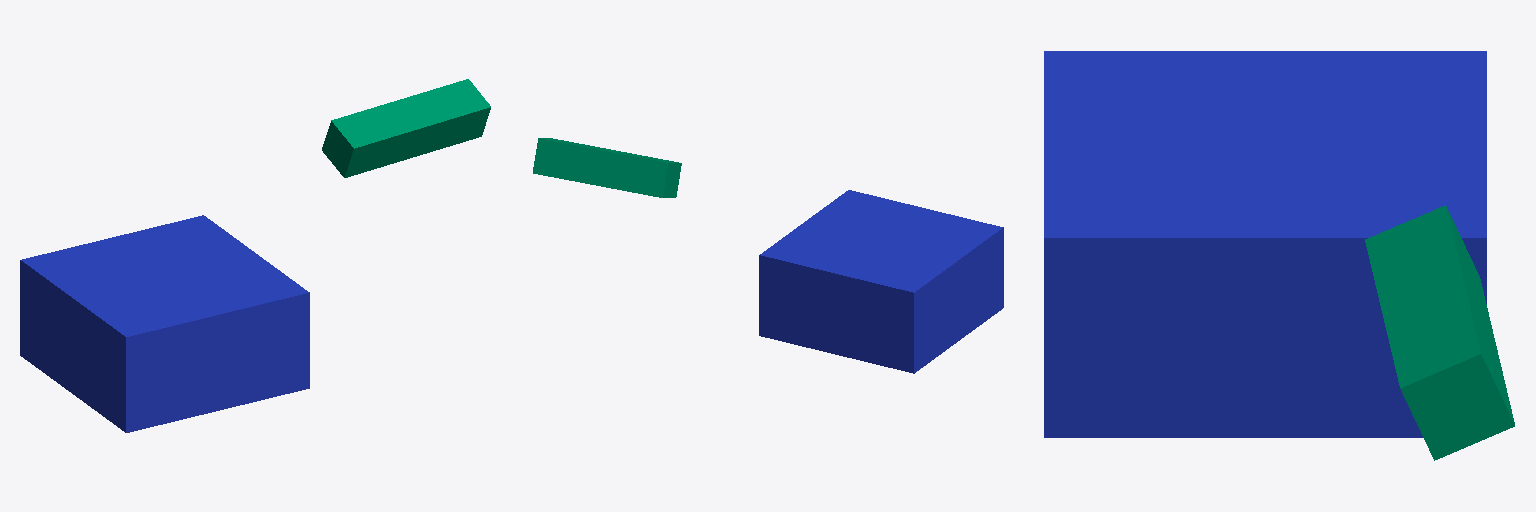
URDF robot description (test_arm):
<?xml version="1.0"?>
<!-- Test arm covering URDF features: every joint type, rotated inertial
     frames with off-diagonal inertia, a link without <inertial>, primitive
     and mesh collision, materials, and non-trivial rpy origins. -->
<robot name="test_arm">
  <material name="blue"><color rgba="0.2 0.3 0.8 1"/></material>

  <link name="base">
    <inertial><mass value="2.0"/><inertia ixx="0.01" ixy="0" ixz="0" iyy="0.01" iyz="0" izz="0.01"/></inertial>
    <collision><geometry><box size="0.2 0.2 0.1"/></geometry></collision>
    <visual><geometry><box size="0.2 0.2 0.1"/></geometry><material name="blue"/></visual>
  </link>

  <joint name="shoulder_yaw" type="revolute">
    <parent link="base"/><child link="upper"/>
    <origin xyz="0 0 0.1" rpy="0 0 0.3"/>
    <axis xyz="0 0 1"/>
    <limit lower="-2.5" upper="2.5" effort="10" velocity="3"/>
    <dynamics damping="0.05"/>
  </joint>
  <link name="upper">
    <inertial>
      <origin xyz="0.12 0.01 0.02" rpy="0.1 0.2 0.3"/>
      <mass value="0.8"/>
      <inertia ixx="0.004" ixy="0.0003" ixz="-0.0002" iyy="0.006" iyz="0.0001" izz="0.005"/>
    </inertial>
    <collision><origin xyz="0.12 0 0" rpy="0 1.5708 0"/><geometry><cylinder radius="0.03" length="0.24"/></geometry></collision>
  </link>

  <joint name="elbow" type="continuous">
    <parent link="upper"/><child link="fore"/>
    <origin xyz="0.24 0 0" rpy="0.4 0 -0.2"/>
    <axis xyz="0 1 0"/>
    <dynamics damping="0.02"/>
  </joint>
  <link name="fore">
    <!-- no inertial: mass comes from collision geometry (density 1000) -->
    <collision><origin xyz="0.08 0 0"/><geometry><box size="0.16 0.04 0.04"/></geometry></collision>
    <collision><origin xyz="0.16 0 0"/><geometry><sphere radius="0.03"/></geometry></collision>
    <visual><origin xyz="0.08 0 0"/><geometry><box size="0.16 0.04 0.04"/></geometry></visual>
  </link>

  <joint name="slider" type="prismatic">
    <parent link="fore"/><child link="tip"/>
    <origin xyz="0.18 0 0" rpy="0 0 0"/>
    <axis xyz="1 0.5 0"/>
    <limit lower="-0.05" upper="0.05" effort="5" velocity="1"/>
  </joint>
  <link name="tip">
    <inertial><origin xyz="0.01 0 0"/><mass value="0.1"/><inertia ixx="1e-4" ixy="0" ixz="0" iyy="2e-4" iyz="0" izz="1.5e-4"/></inertial>
    <collision><geometry><mesh filename="meshes/wedge.obj"/></geometry></collision>
  </link>

  <joint name="tool_mount" type="fixed">
    <parent link="tip"/><child link="tool"/>
    <origin xyz="0.05 0 0" rpy="0 0.5 0"/>
  </joint>
  <link name="tool">
    <inertial><origin xyz="0.02 0 0"/><mass value="0.05"/><inertia ixx="1e-5" ixy="0" ixz="0" iyy="1e-5" iyz="0" izz="1e-5"/></inertial>
  </link>
</robot>

--- Facts derived from the render (not from the file) ---
3 views of the same robot in one strip: view 1: azimuth 30°, elevation 25°; view 2: azimuth 150°, elevation 25°; view 3: azimuth 270°, elevation 25° (orthographic).
Robot: test_arm — 5 links, 4 joints (1 revolute, 1 continuous, 1 prismatic, 1 fixed); root link base; default pose: every joint at zero.
Visible links, largest first — view 1: base, fore; view 2: base, fore; view 3: base, fore.
Boxes of the visible links, x1,y1,x2,y2 form: base: (20, 215, 309, 432); fore: (322, 79, 490, 177); base: (759, 190, 1003, 373); fore: (533, 138, 681, 197); base: (1044, 51, 1486, 437); fore: (1365, 205, 1514, 460).
Bounding box of the posed robot: 0.4911 × 0.213 × 0.1762 m (x, y, z).
Geometry: primitives only (box / cylinder / sphere), no mesh files.
